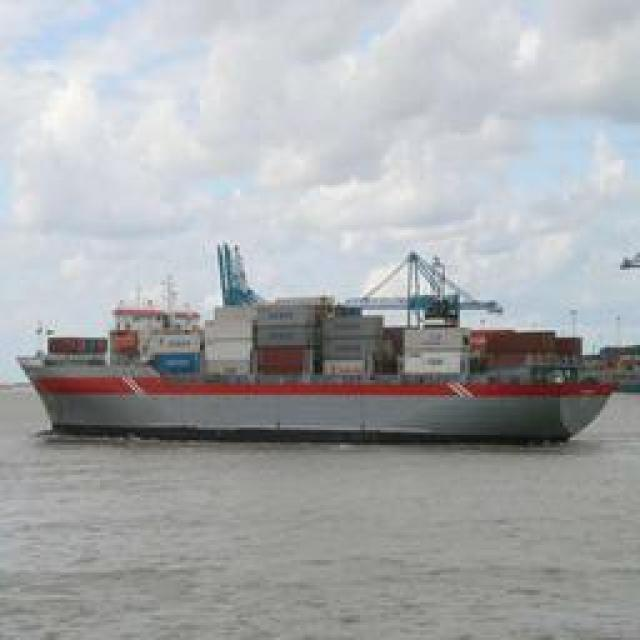ship2: (18, 240, 617, 449)
